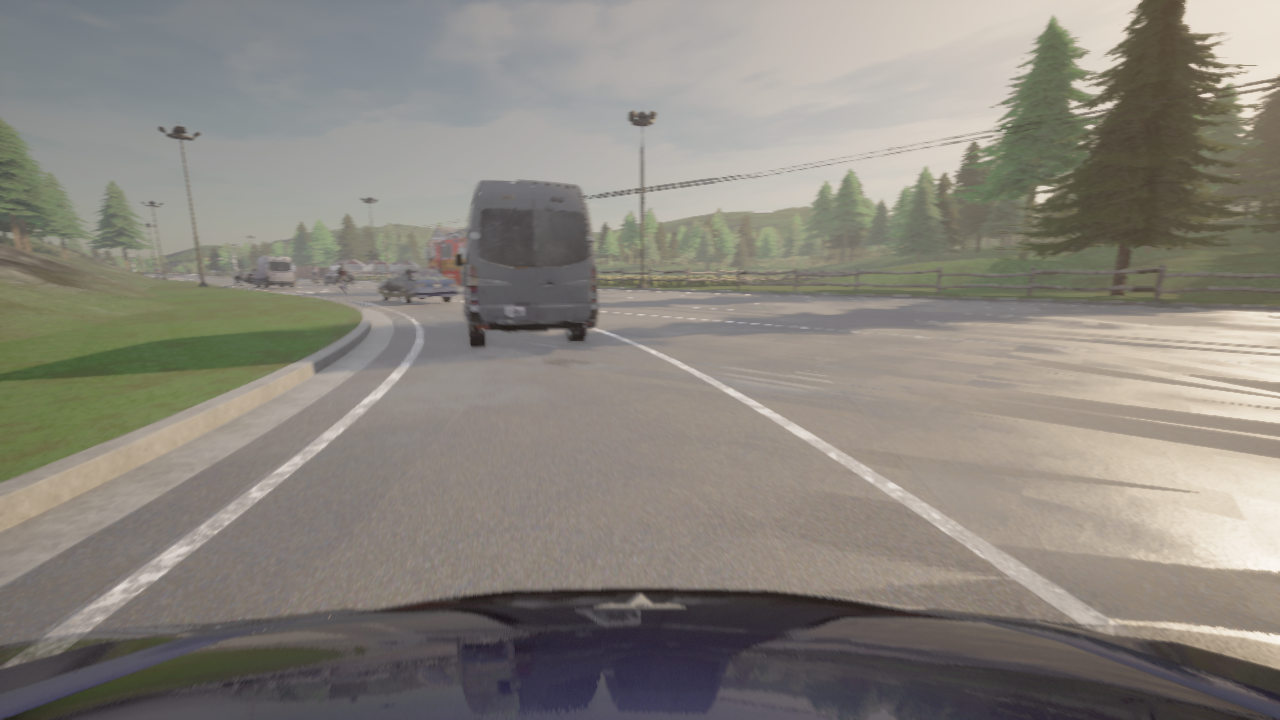cyclist: (0, 588, 1279, 719), (454, 179, 597, 346), (376, 269, 458, 304), (425, 230, 466, 286), (252, 256, 295, 288), (324, 271, 354, 285), (232, 271, 254, 285), (340, 281, 346, 294), (312, 275, 317, 283)
